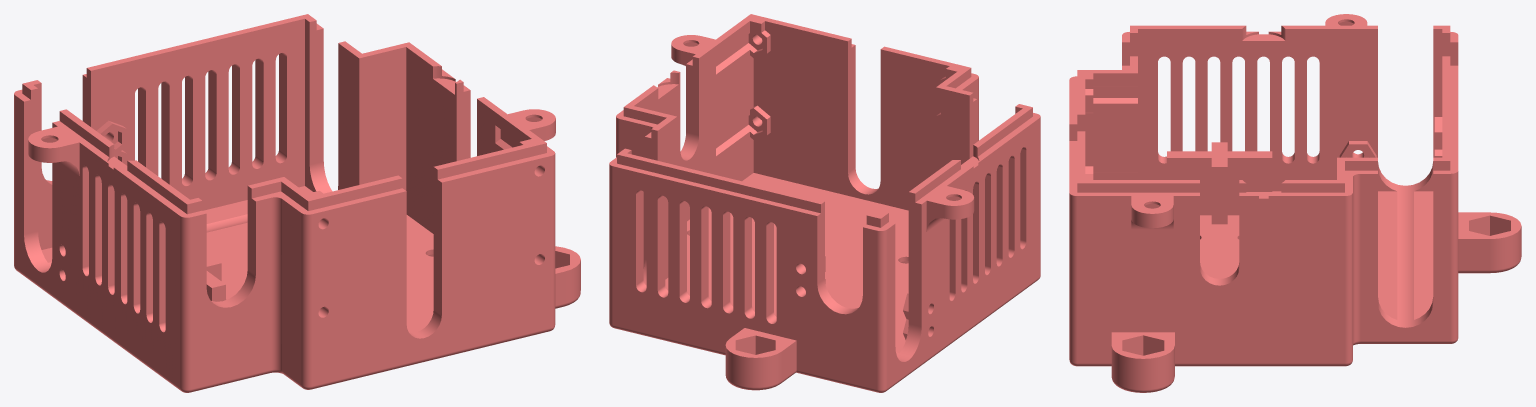
3 renders of one model, left to right at view 1: azimuth 30°, elevation 25°; view 2: azimuth 150°, elevation 25°; view 3: azimuth 270°, elevation 25°, orthographic. The views are drawn at different scales.
Parts seen in each view (by area): view 1: actuator_mount_2_bottom-1 - Part; view 2: actuator_mount_2_bottom-1 - Part; view 3: actuator_mount_2_bottom-1 - Part.
Boxes of the visible parts, x1,y1,x2,y2 form: actuator_mount_2_bottom-1 - Part: [14, 14, 580, 392]; actuator_mount_2_bottom-1 - Part: [609, 14, 1040, 392]; actuator_mount_2_bottom-1 - Part: [1069, 14, 1521, 392].
Bounding box in the file's own units: 0.0938 × 0.038 × 0.0858.
